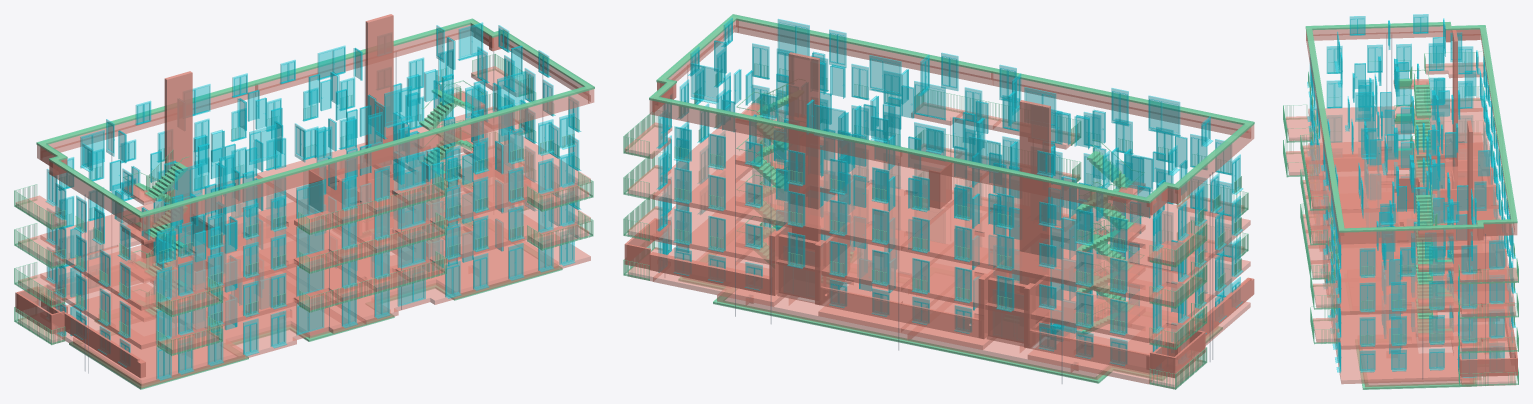
File: building_combined.glb
3 views of the same model, side by side, from view 1: azimuth 30°, elevation 25°; view 2: azimuth 150°, elevation 25°; view 3: azimuth 270°, elevation 25° (orthographic). The views are drawn at different scales.
Parts seen in each view (by area): view 1: Level_02_02_structure, Level_01_01_structure, Level_03_03_openings, Level_02_02_openings, GroundFloor_structure, Level_04_04_openings, Level_01_01_openings, Level_04_04_structure, zeHGW_structure, GroundFloor_openings, Level_02_02_circulation, Level_03_03_circulation (+7 smaller); view 2: Level_02_02_structure, zeHGW_structure, Level_01_01_structure, Level_03_03_openings, Level_02_02_openings, Level_04_04_openings, GroundFloor_structure, Level_04_04_structure, Level_01_01_openings, Roof_structure, Level_04_04_circulation, GroundFloor_openings (+7 smaller); view 3: Level_02_02_structure, Level_01_01_structure, Level_03_03_openings, Level_02_02_openings, Level_04_04_openings, GroundFloor_structure, Level_01_01_openings, zeHGW_structure, Level_04_04_structure, Level_04_04_circulation, Level_02_02_circulation, Roof_structure (+7 smaller).
Part boxes in pixels (<box>): Level_02_02_structure: <box>18,106,590,314</box>; Level_01_01_structure: <box>18,145,590,353</box>; Level_03_03_openings: <box>46,47,580,264</box>; Level_02_02_openings: <box>45,87,580,302</box>; GroundFloor_structure: <box>18,192,590,388</box>; Level_04_04_openings: <box>80,22,550,202</box>; Level_01_01_openings: <box>46,133,580,341</box>; Level_04_04_structure: <box>37,24,594,231</box>; zeHGW_structure: <box>15,14,524,378</box>; GroundFloor_openings: <box>47,170,579,380</box>; Level_02_02_circulation: <box>14,93,593,317</box>; Level_03_03_circulation: <box>14,54,579,262</box>; Level_02_02_structure: <box>627,109,1250,306</box>; zeHGW_structure: <box>624,52,1254,378</box>; Level_01_01_structure: <box>627,153,1250,347</box>; Level_03_03_openings: <box>656,43,1242,253</box>; Level_02_02_openings: <box>657,85,1242,294</box>; Level_04_04_openings: <box>688,17,1212,192</box>; GroundFloor_structure: <box>627,209,1250,388</box>; Level_04_04_structure: <box>649,20,1254,217</box>; Level_01_01_openings: <box>657,131,1242,335</box>; Roof_structure: <box>682,251,1218,379</box>; Level_04_04_circulation: <box>649,14,1254,203</box>; GroundFloor_openings: <box>658,168,1242,374</box>; Level_02_02_structure: <box>1286,97,1515,317</box>; Level_01_01_structure: <box>1286,132,1515,351</box>; Level_03_03_openings: <box>1307,43,1515,277</box>; Level_02_02_openings: <box>1307,77,1515,312</box>; Level_04_04_openings: <box>1334,14,1498,230</box>; GroundFloor_structure: <box>1319,175,1515,386</box>; Level_01_01_openings: <box>1308,113,1515,346</box>; zeHGW_structure: <box>1399,30,1517,377</box>; Level_04_04_structure: <box>1306,26,1517,244</box>; Level_04_04_circulation: <box>1305,22,1517,232</box>; Level_02_02_circulation: <box>1283,86,1518,318</box>; Roof_structure: <box>1359,312,1491,386</box>.
Bounding box in the file's own units: 42.18 × 19 × 19.23.
